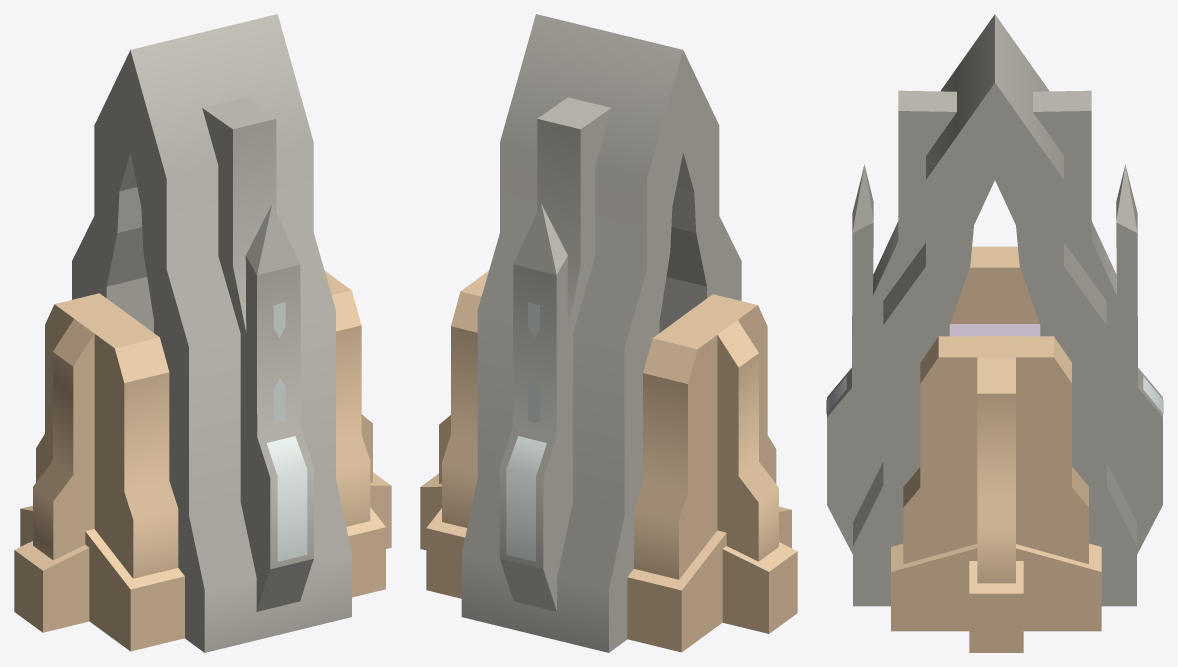
3 views of the same model, side by side, from view 1: azimuth 30°, elevation 25°; view 2: azimuth 150°, elevation 25°; view 3: azimuth 270°, elevation 25° (orthographic). The views are drawn at different scales.
Parts seen in each view (by area): view 1: Object24; view 2: Object24; view 3: Object24.
Part boxes in pixels (x1,y1,x2,y2): Object24: [14, 14, 391, 652]; Object24: [420, 14, 797, 652]; Object24: [826, 14, 1163, 652].
Bounding box in the file's own units: 348 × 523 × 306.
